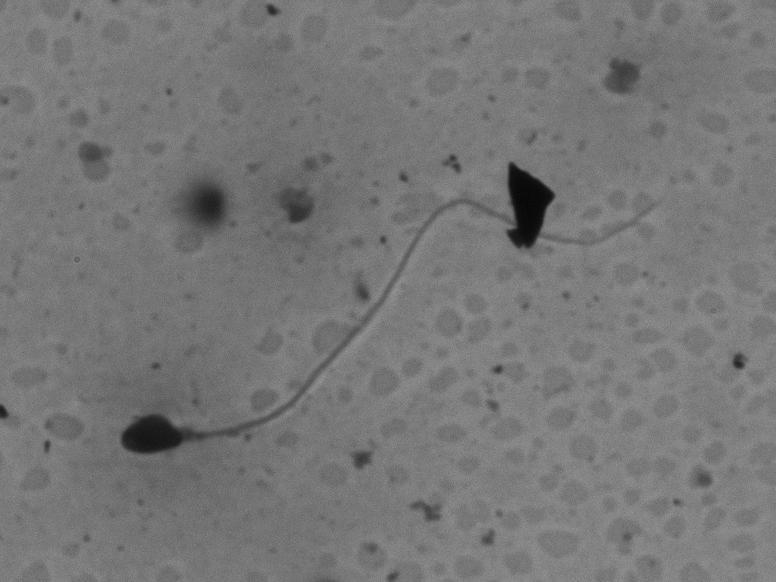Abnormal: (108, 168, 677, 470)
